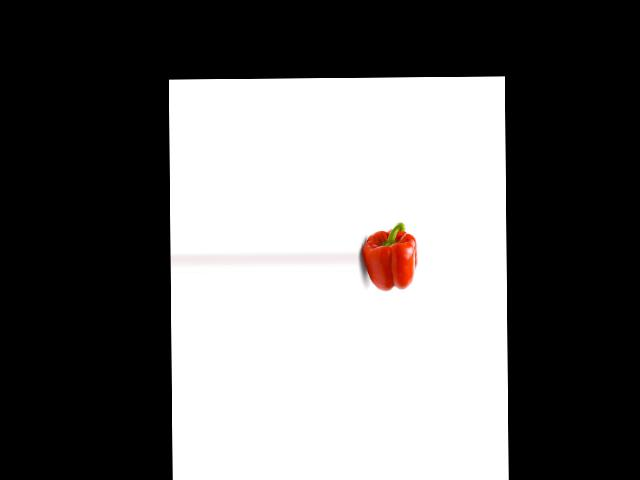bell_pepper: (363, 218, 417, 297)
